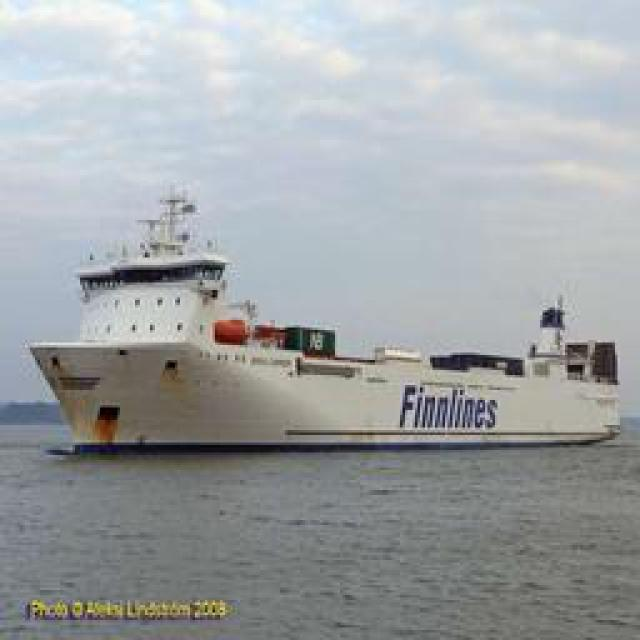Ship: (26, 184, 628, 460)
